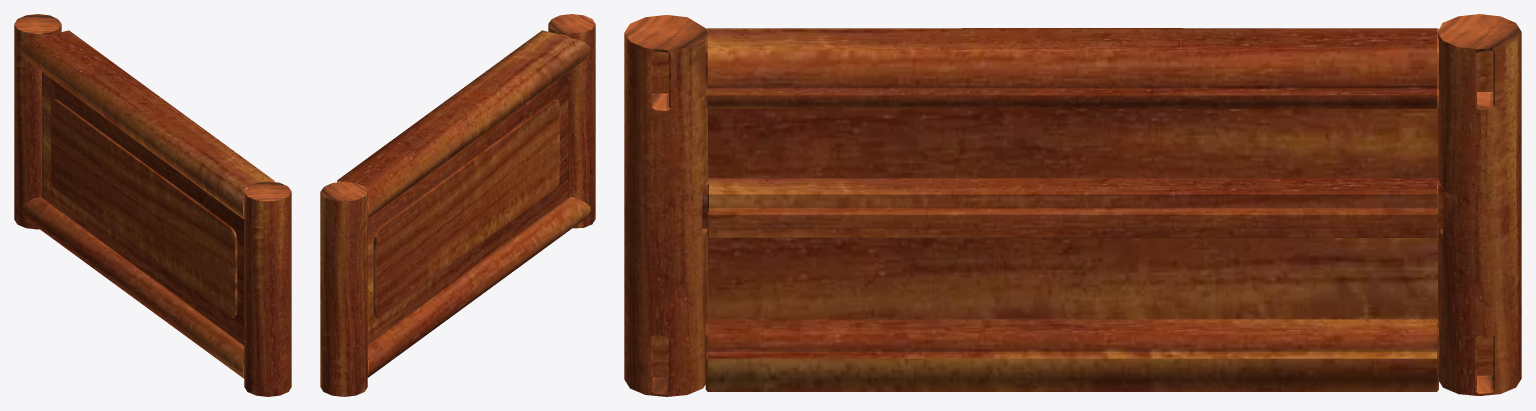
File: SJ_J_H_ceban_02.FBX
3 renders of one model, left to right at view 1: azimuth 30°, elevation 25°; view 2: azimuth 150°, elevation 25°; view 3: azimuth 270°, elevation 25°, orthographic. The views are drawn at different scales.
Visible parts, largest first — view 1: SJ_J_H_ceban_02; view 2: SJ_J_H_ceban_02; view 3: SJ_J_H_ceban_02.
Part boxes in pixels (x1=…): SJ_J_H_ceban_02: x1=14, y1=14, x2=291, y2=396; SJ_J_H_ceban_02: x1=320, y1=14, x2=595, y2=396; SJ_J_H_ceban_02: x1=624, y1=14, x2=1521, y2=396.
Size of the model in its own units: 4.39 by 18.34 by 42.98.
